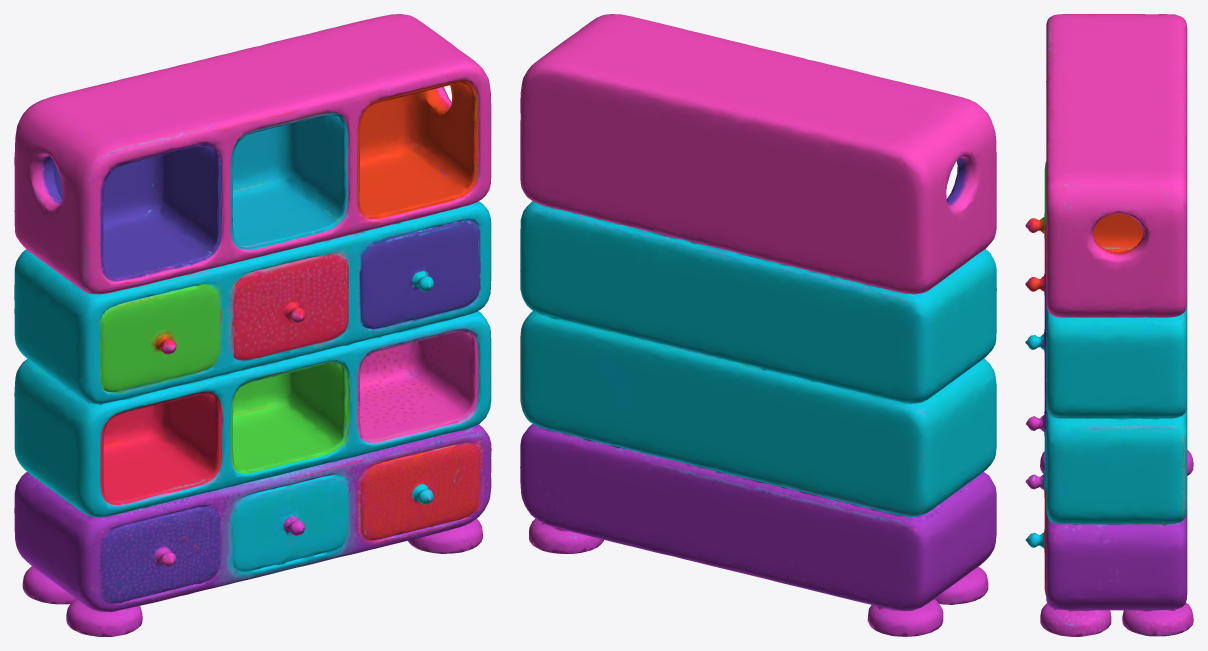
The model's file is color-drawers.glb.
3 views of the same model, side by side, from view 1: azimuth 30°, elevation 25°; view 2: azimuth 150°, elevation 25°; view 3: azimuth 270°, elevation 25° (orthographic). The views are drawn at different scales.
Parts seen in each view (by area): view 1: world; view 2: world; view 3: world.
Part boxes in pixels (x1,y1,x2,y2): world: [14, 14, 491, 636]; world: [520, 14, 996, 636]; world: [1025, 14, 1193, 636].
Size of the model in its own units: 0.8915 by 1 by 0.3399.
Materials: 1 (1 with a texture image).
